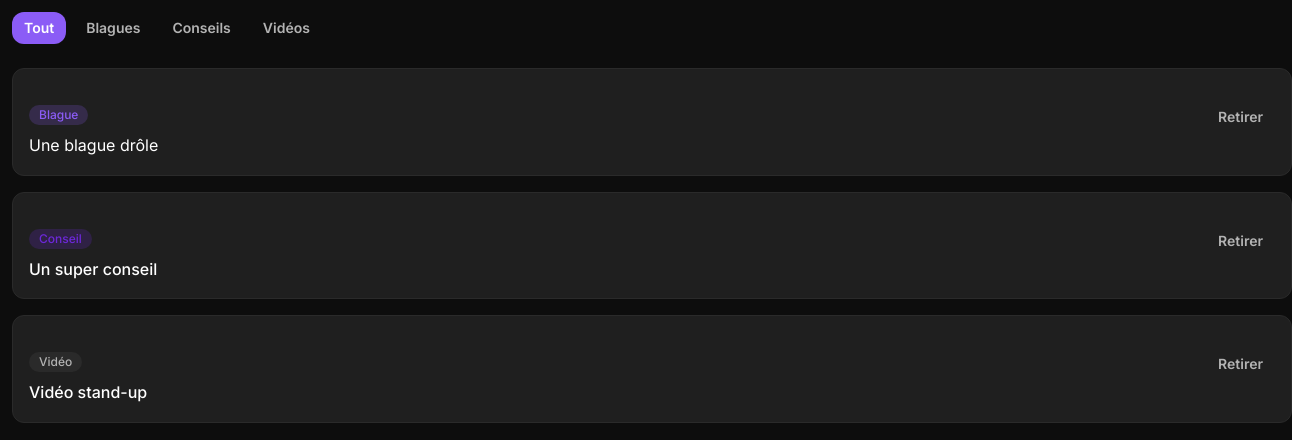
Test: FavorisList › filters by JOKE tab
The width and height of the screenshot is (1292, 440).
Click the button "Blagues".
click(113, 28)  # box [74,12,152,44]
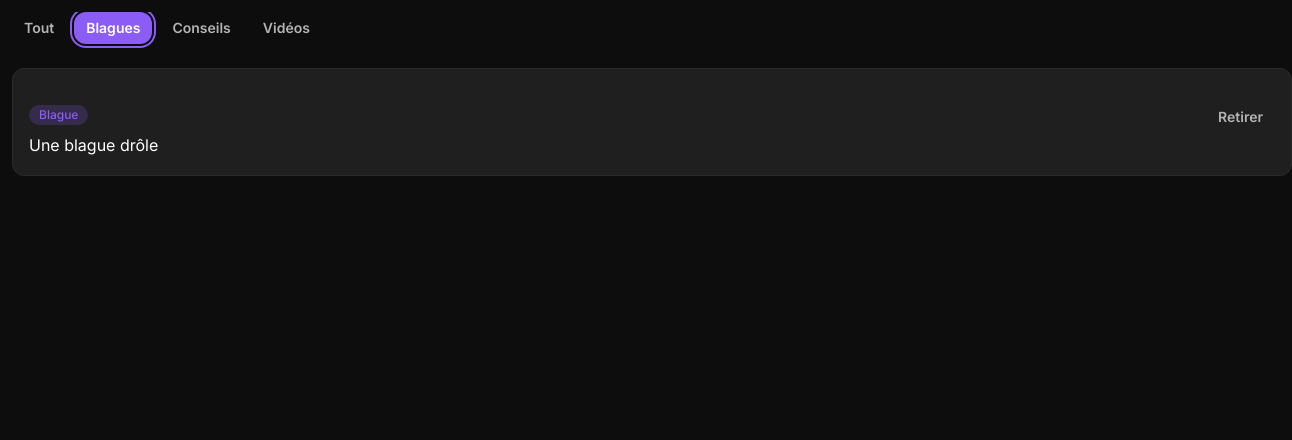
Expected: the text "Une blague drôle" is shown, [29,135,158,155]
Now the text "Un super conseil" is gone
Now the text "Vidéo stand-up" is gone
